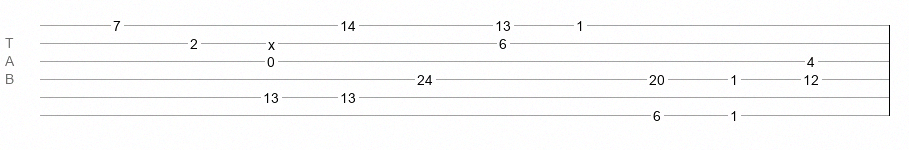0: (267, 54, 275, 64)
1: (576, 18, 584, 28), (730, 72, 738, 82), (730, 108, 738, 118)
12: (803, 72, 819, 82)
13: (263, 90, 279, 100), (340, 90, 356, 100), (495, 18, 511, 28)
14: (340, 18, 356, 28)
2: (190, 36, 198, 46)
20: (649, 72, 665, 82)
24: (417, 72, 433, 82)
4: (807, 54, 815, 64)
6: (499, 36, 507, 46), (653, 108, 661, 118)
7: (113, 18, 121, 28)
x: (268, 37, 275, 45)
